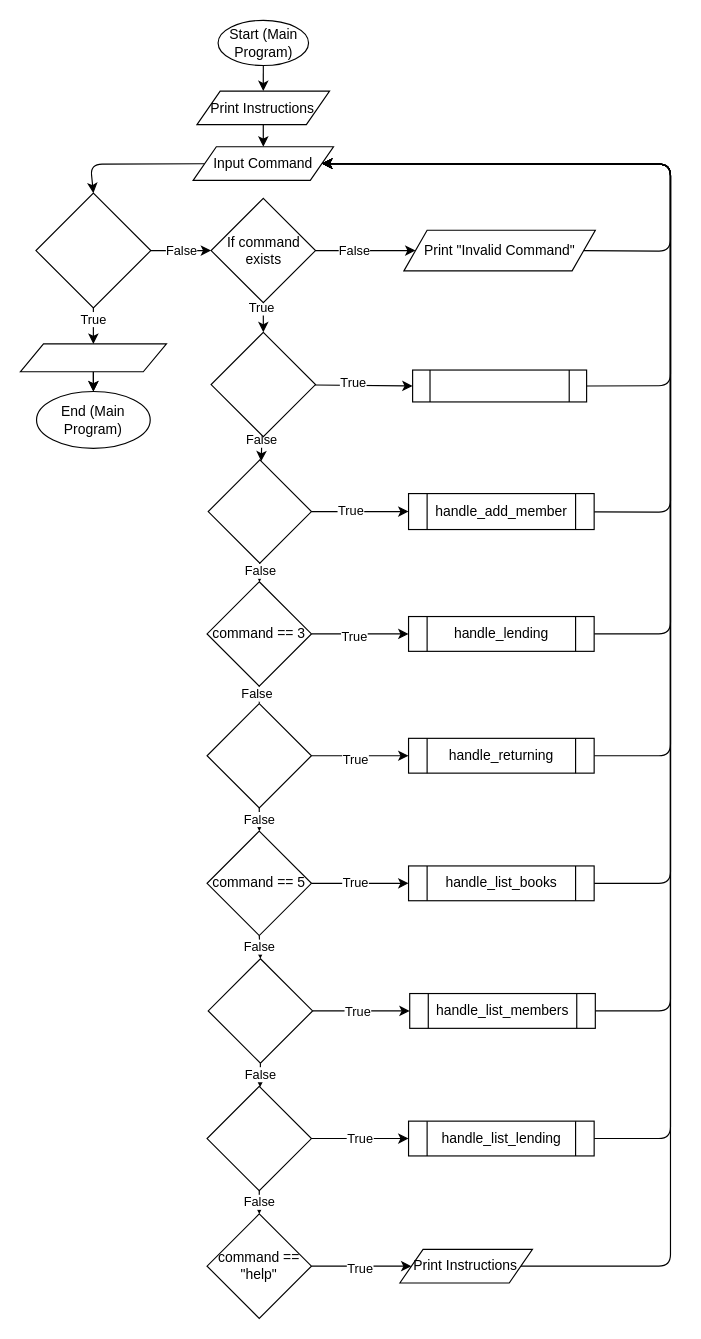
This 701x1339 diagram has some shape labels left out. Each missing label, with the box of its shape:
command == 1: (210, 331, 316, 437)
command == 2: (207, 459, 311, 563)
command == 4: (206, 702, 311, 808)
command == 6: (207, 958, 313, 1063)
command == 7: (206, 1085, 311, 1191)
handle_add_book: (411, 369, 587, 402)
if command == "exit": (35, 192, 151, 308)
Print ExitMessage: (19, 343, 166, 372)
